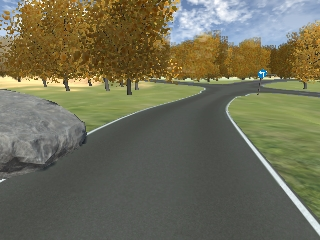left: (258, 70, 265, 79)
